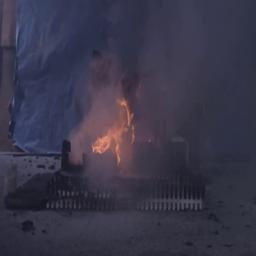fire: (89, 90, 136, 159)
